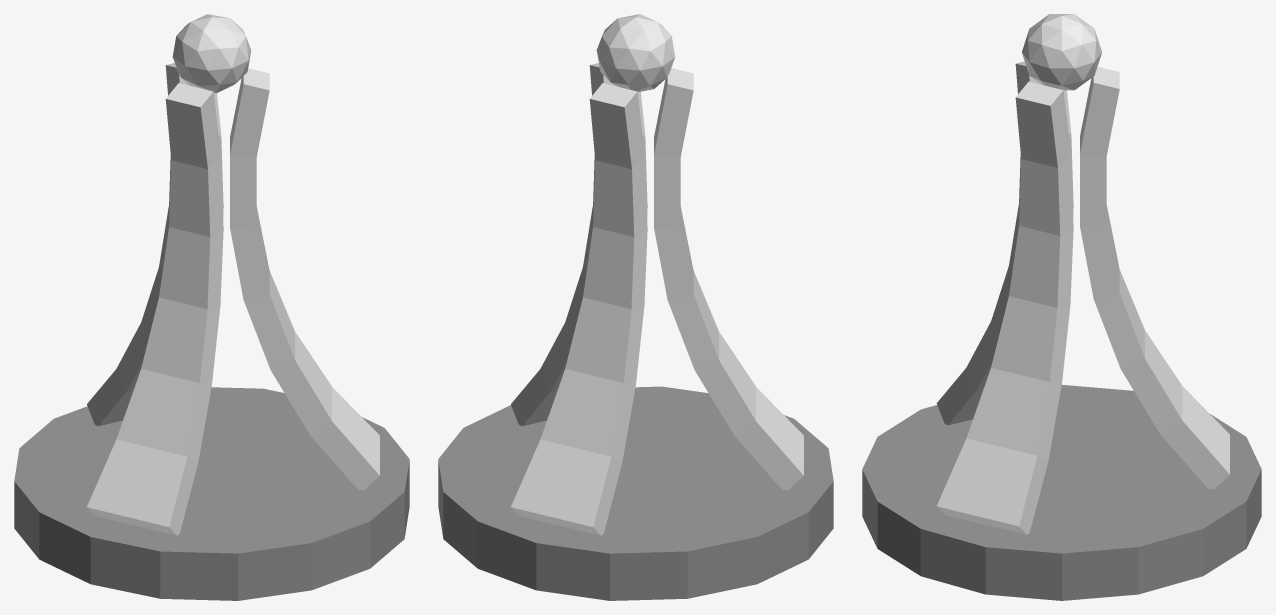
File: Monument_Intersection.fbx
The picture shows the model from 3 angles, left to right: view 1: azimuth 30°, elevation 25°; view 2: azimuth 150°, elevation 25°; view 3: azimuth 270°, elevation 25°; orthographic projection.
Parts seen in each view (by area): view 1: BenchIntersection_T_Colors; view 2: BenchIntersection_T_Colors; view 3: BenchIntersection_T_Colors.
Part boxes in pixels (x1,y1,x2,y2): BenchIntersection_T_Colors: (14, 14, 409, 600); BenchIntersection_T_Colors: (438, 14, 833, 600); BenchIntersection_T_Colors: (862, 14, 1261, 600).
Size of the model in its own units: 546 by 756 by 546.
